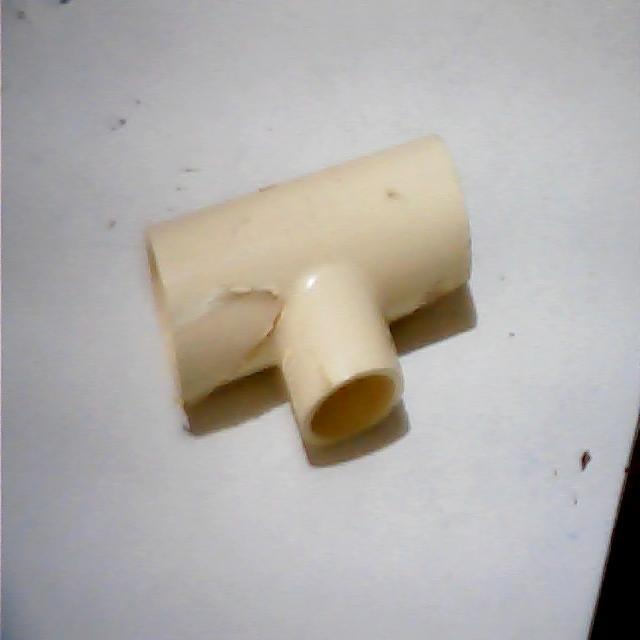Defective: (169, 267, 293, 405)
T Joint: (144, 135, 472, 469)
